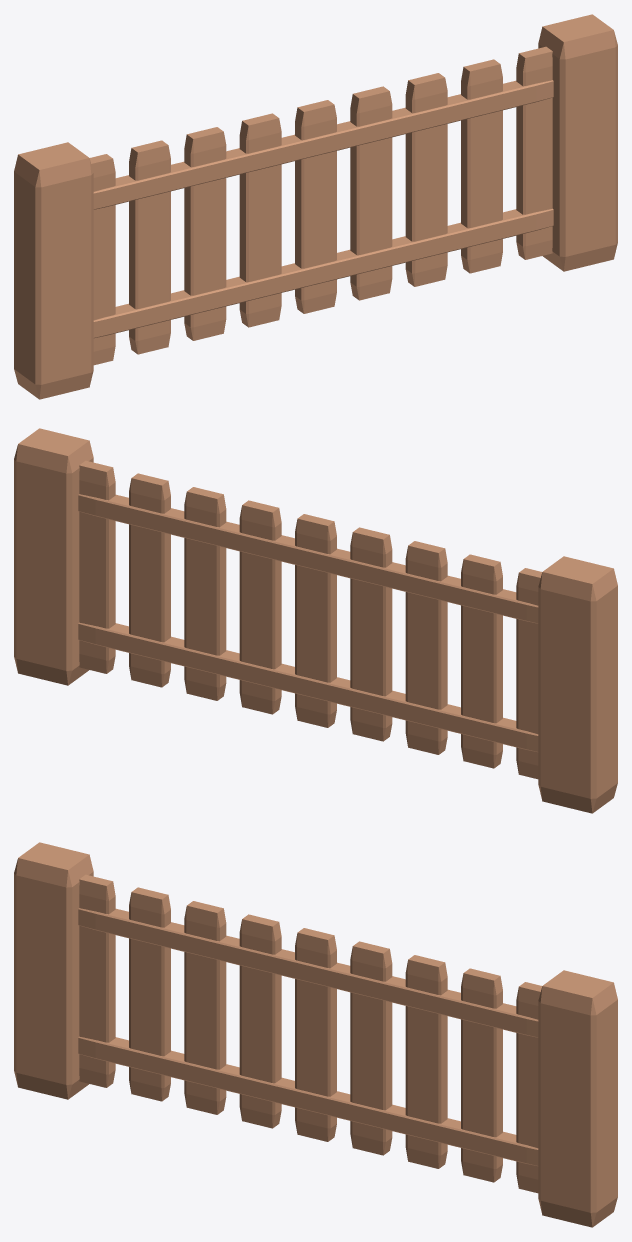
File: b19_ranch_wire_fence.glb
3 views of the same model, one above another, from view 1: azimuth 30°, elevation 25°; view 2: azimuth 150°, elevation 25°; view 3: azimuth 330°, elevation 25° (orthographic).
Parts seen in each view (by area): view 1: b19_ranch_wire_fence; view 2: b19_ranch_wire_fence; view 3: b19_ranch_wire_fence.
Boxes of the visible parts, x1,y1,x2,y2 form: b19_ranch_wire_fence: (14,14,617,399); b19_ranch_wire_fence: (14,428,617,813); b19_ranch_wire_fence: (14,842,617,1227).
Bounding box in the file's own units: 3.24 × 1.22 × 0.24.
